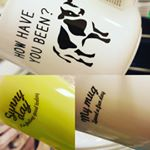cups: (1, 1, 145, 74)
